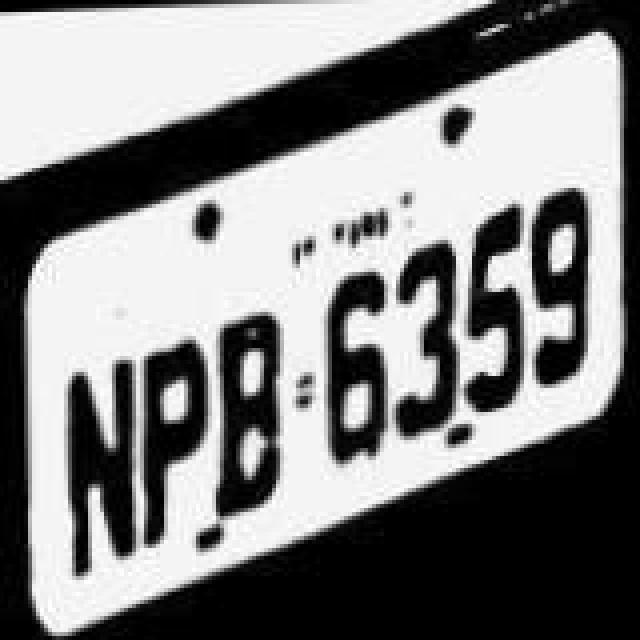3: (388, 232, 468, 444)
5: (454, 198, 530, 426)
6: (314, 262, 394, 490)
9: (520, 164, 600, 420)
B: (204, 278, 288, 522)
N: (56, 304, 140, 592)
P: (134, 284, 218, 544)
